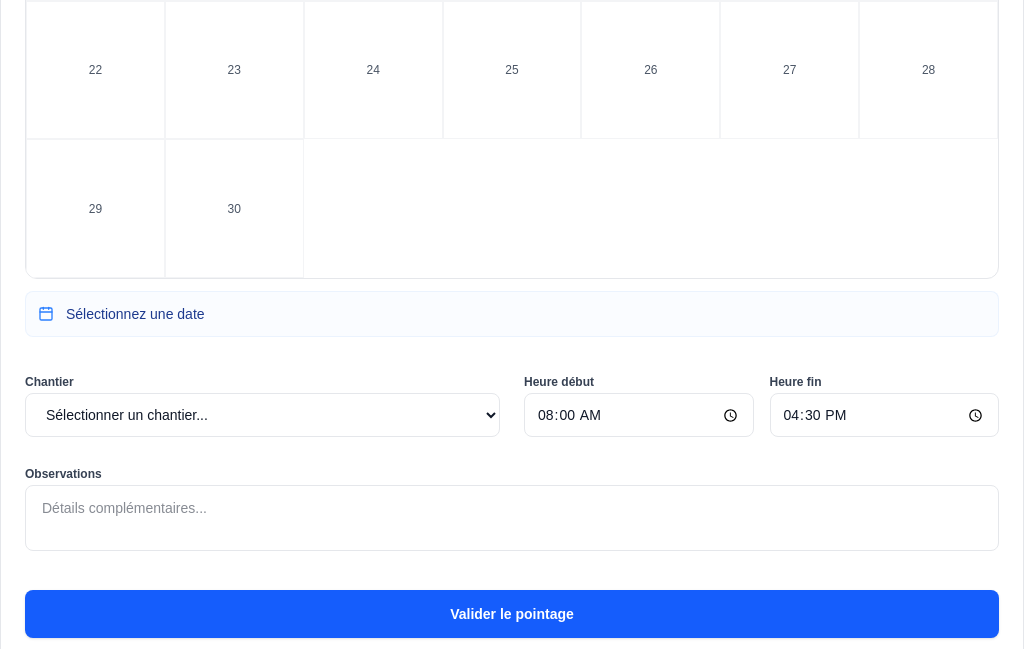
Test: PointageForm › handles submission error
(page scrolled)
Select "Chantier Test" in the dropdown labelled "Chantier" at (262, 415), box [25, 393, 500, 437]
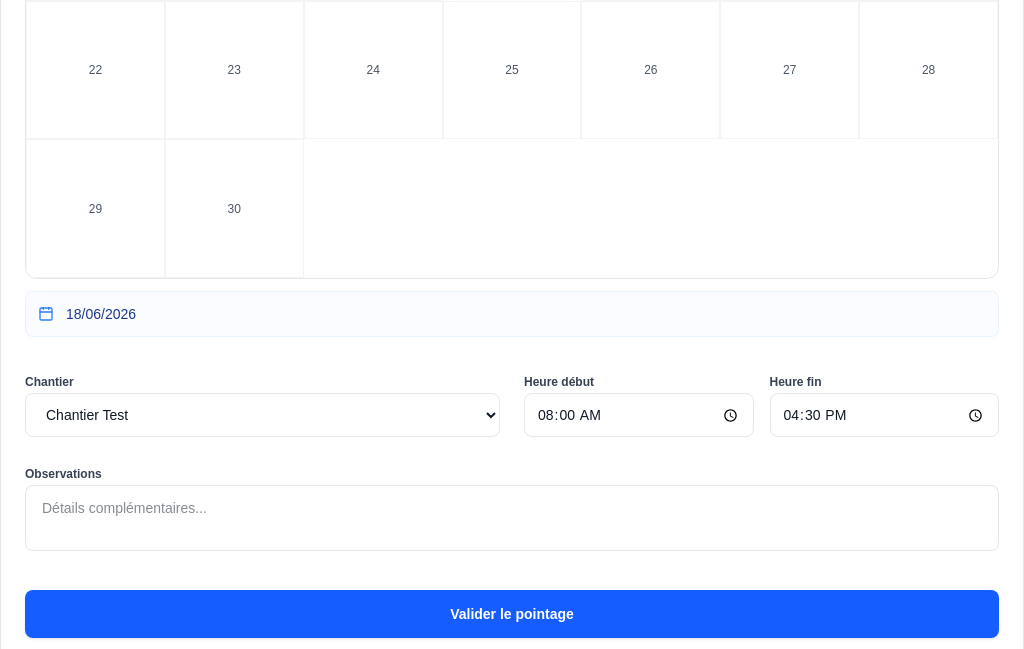
Click the button "Valider le pointage" at (512, 614), box [25, 590, 999, 638]
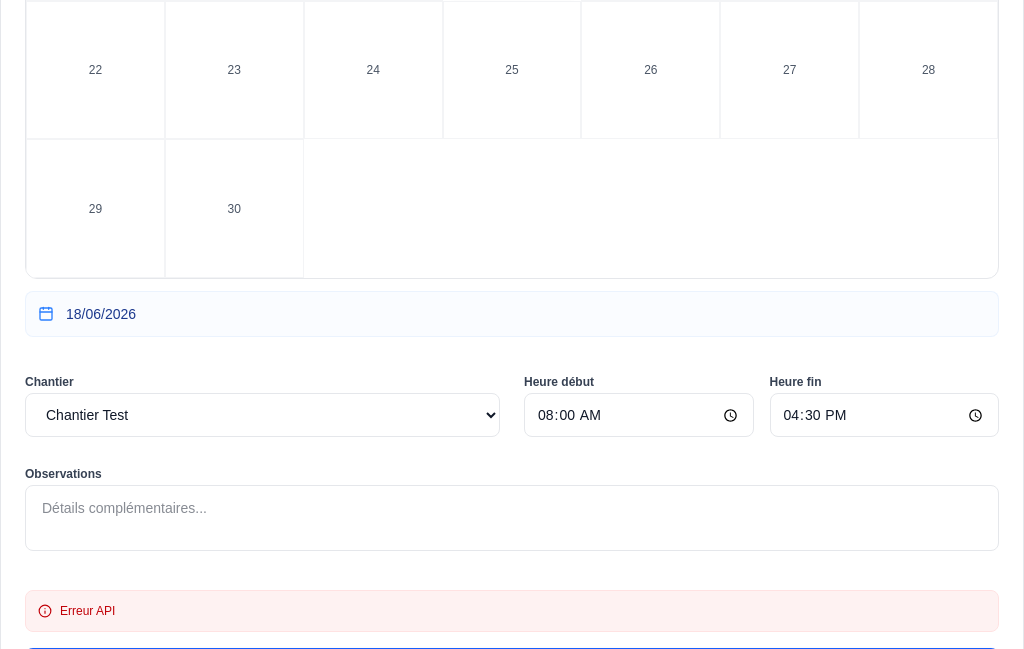
Expected: the text "Erreur API" is shown, [25, 590, 999, 632]
